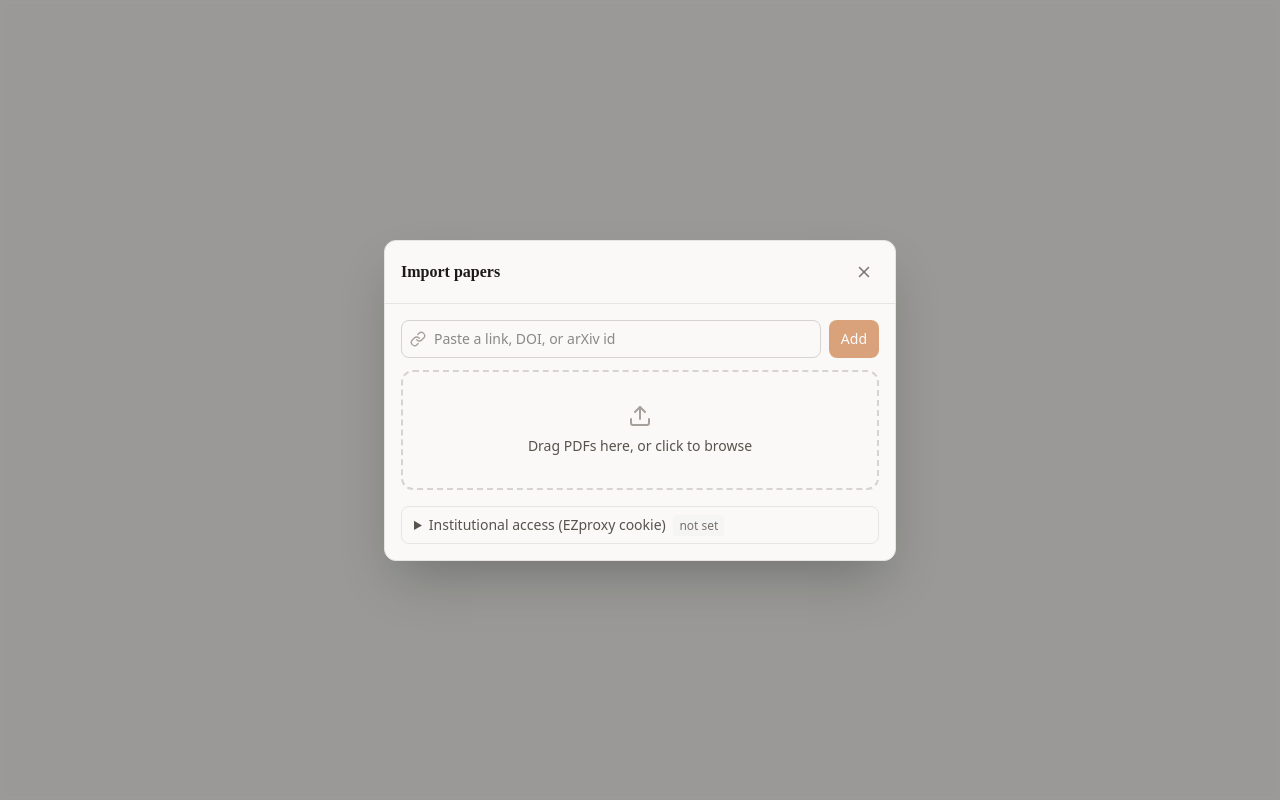
proxy cookie section › names the configured proxy host in the help copy
This screenshot has width=1280, height=800.
Step 1. Click the heading "Institutional access (EZproxy cookie) not set" → point(577, 525), box [429,514,724,536]
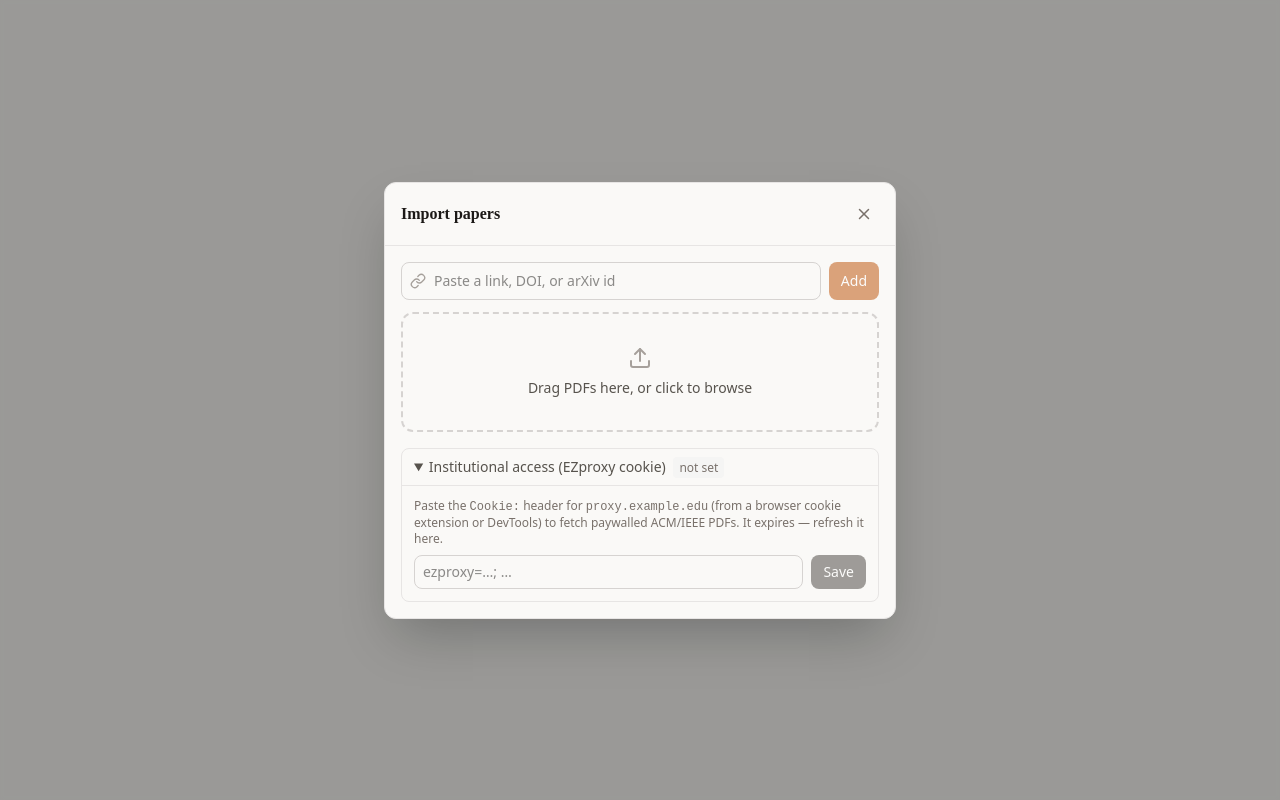
expect the text "proxy.example.edu" is shown: met, box [586,500,708,514]
